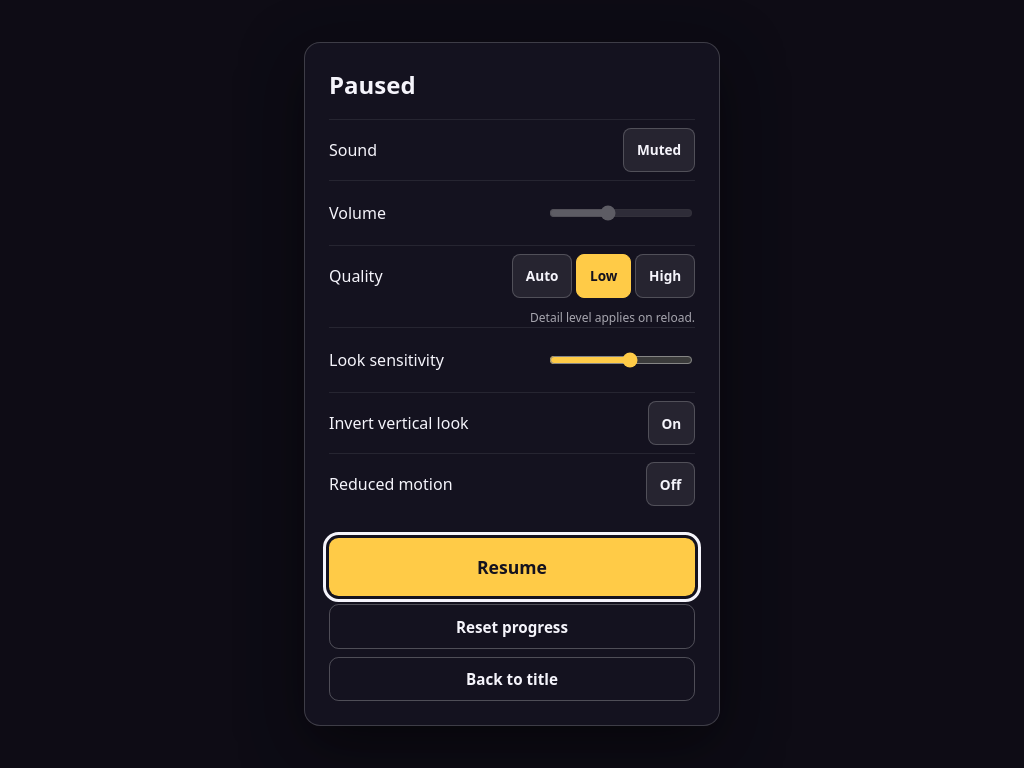
it: SettingsMenu › guards Reset progress behind an explicit confirm
# The first click only arms the confirm — it must NOT wipe the run.
What coordinates should you click on to do the following:
click the button "Reset progress"
I would click on:
 (512, 627)
Its box is [329,604,695,649].
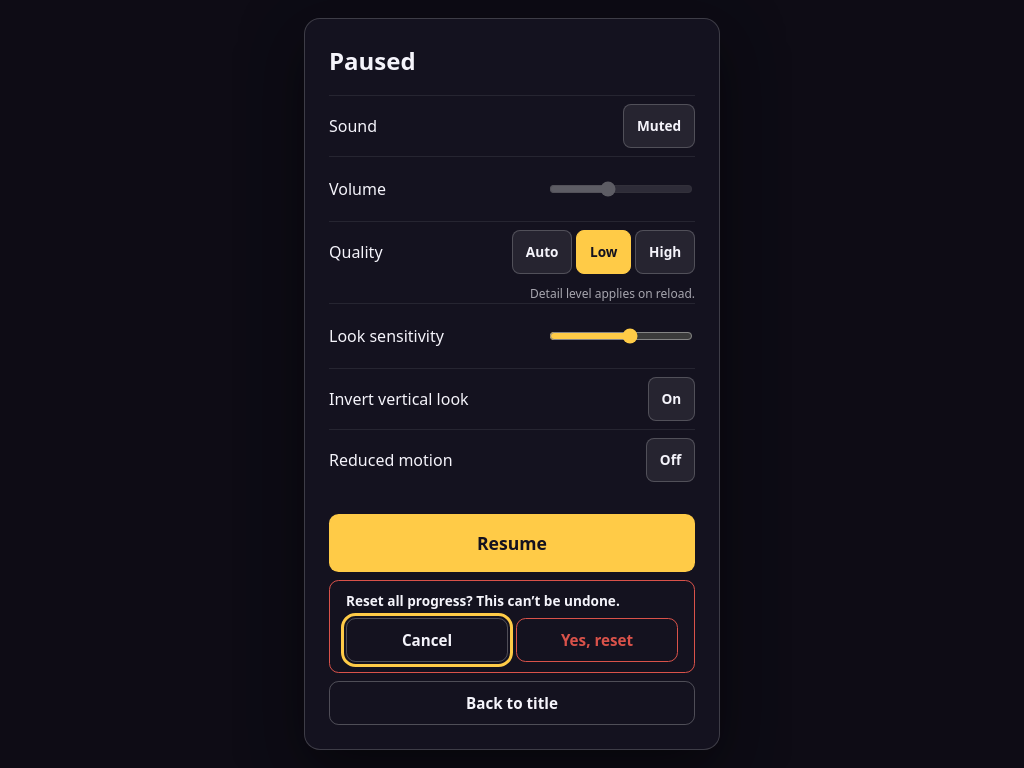
# Cancel backs out cleanly, restoring the idle button.
What coordinates should you click on to do the following:
click the button "Cancel"
I would click on:
 (427, 640)
Its box is [346,618,508,662].
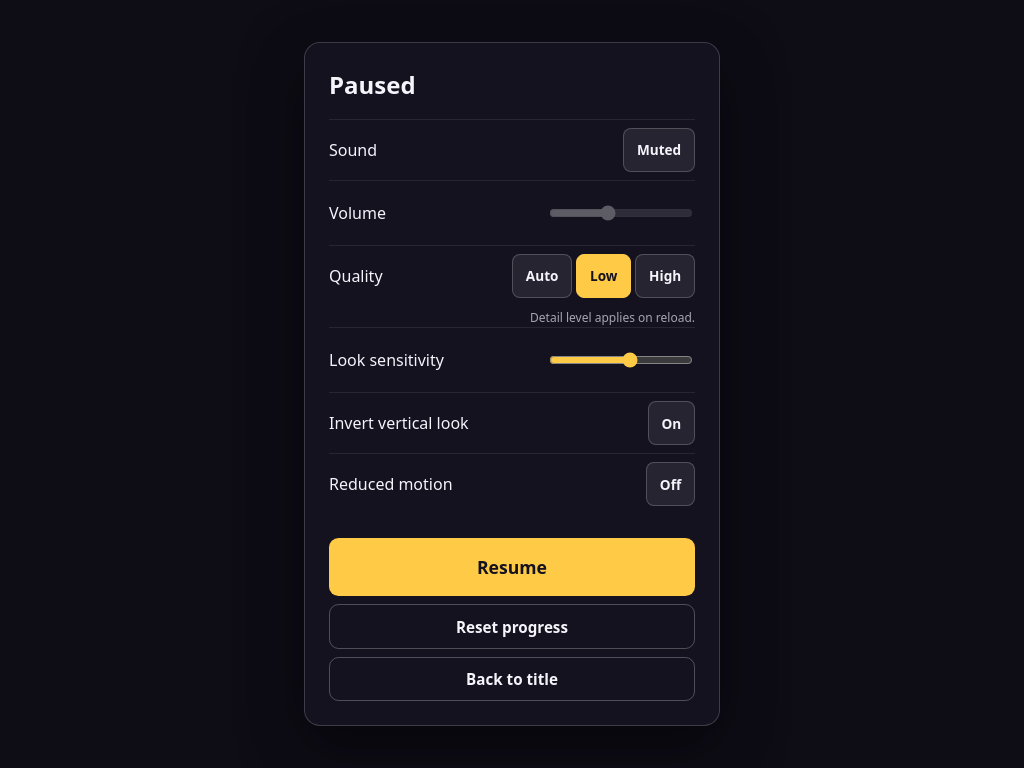
Expected: the button "Reset progress" is shown
# Arm again, then confirm — now it resets exactly once and acknowledges.
What coordinates should you click on to do the following:
click the button "Reset progress"
I would click on:
 (512, 627)
Its box is [329,604,695,649].
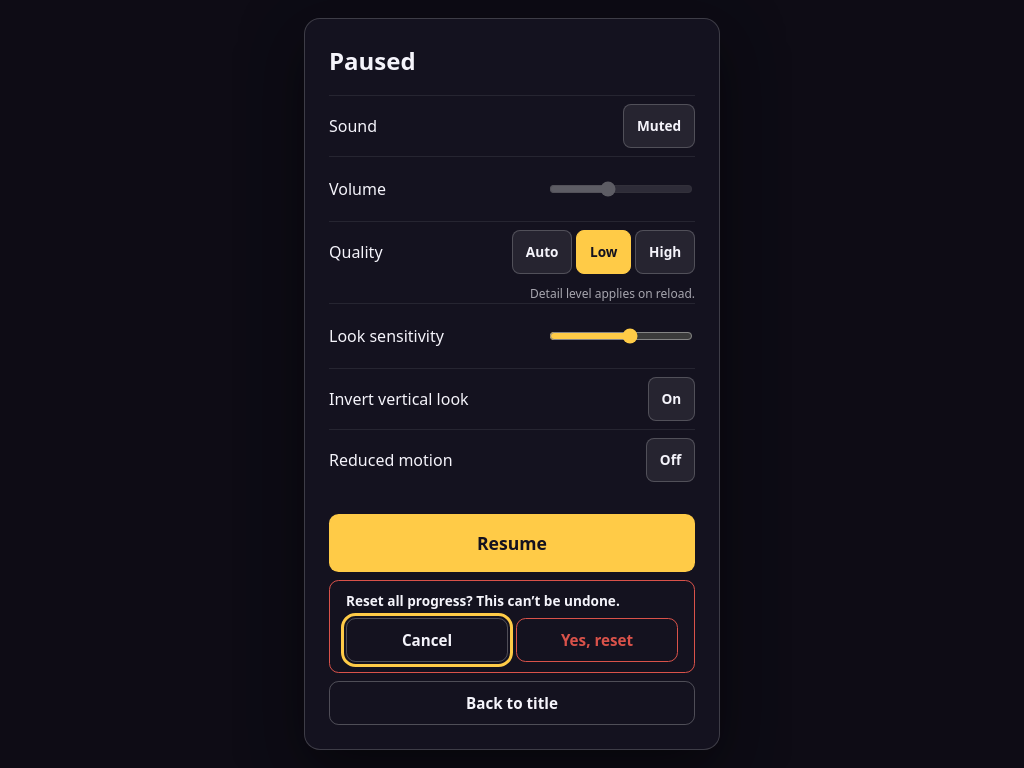
What coordinates should you click on to do the following:
click the button "Yes, reset"
I would click on:
 (597, 640)
Its box is [516,618,678,662].
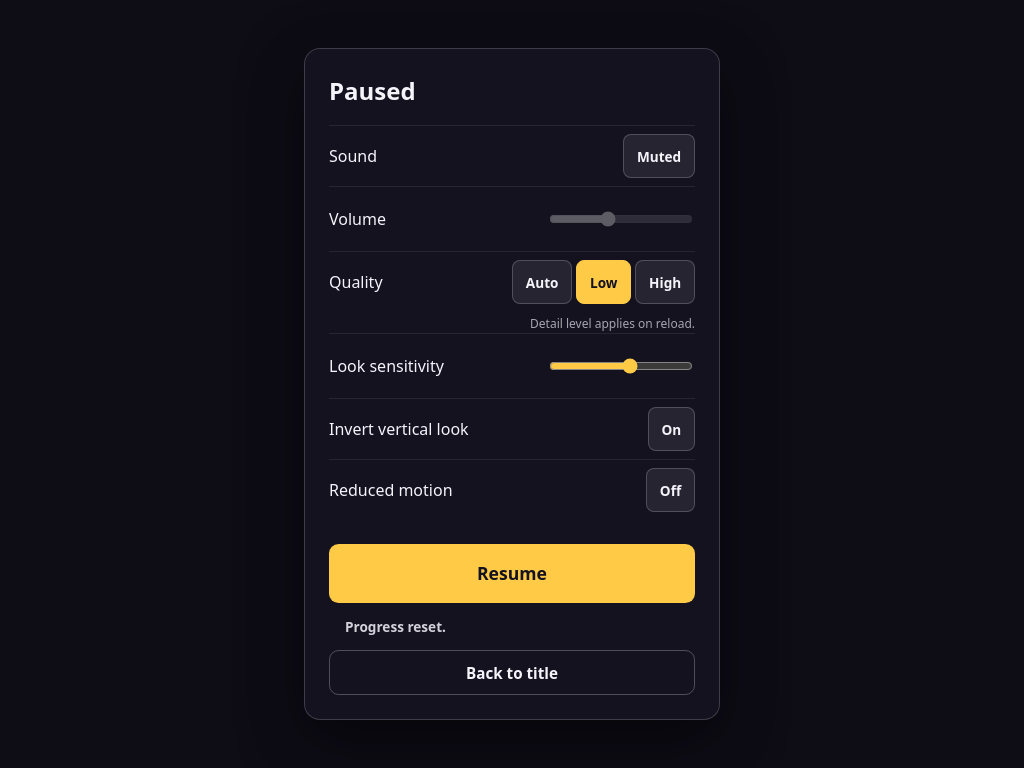
Expected: the text "Progress reset." is shown, [345,617,446,636]
